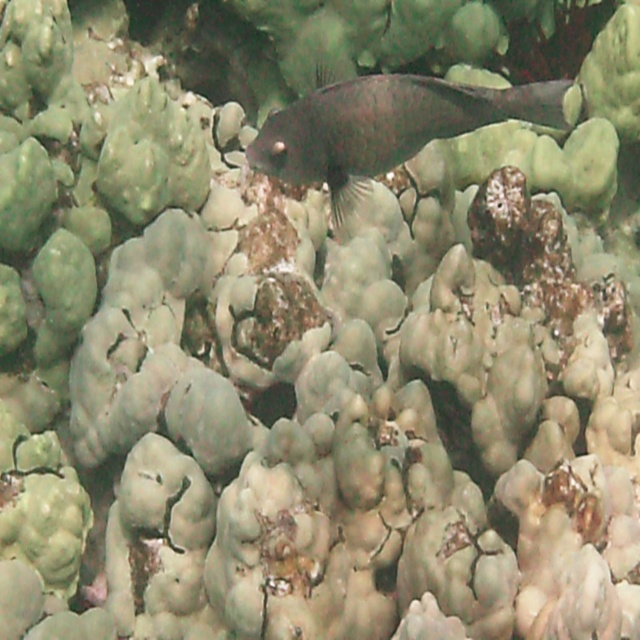Fish: (232, 73, 542, 242)
